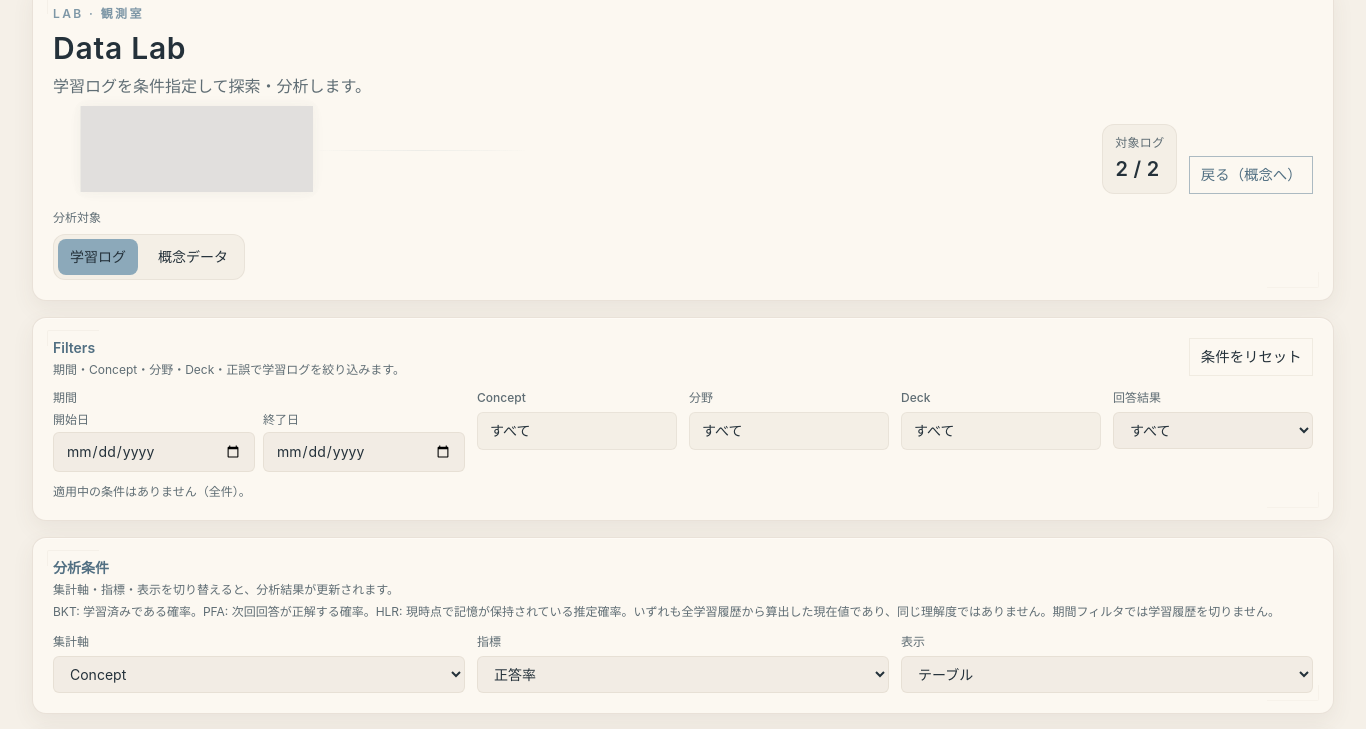
DataLabView (#89 / #90) › 表示selectにヒストグラムがあり、Concept/分野/Deckで描画し、日では案内、テーブルに戻せる
The width and height of the screenshot is (1366, 729).
Step 1. Select "ヒストグラム" in the dropdown labelled "表示" → coordinates (1107, 674), box [901,656,1313,692]
Step 2. Select "分野" in the dropdown labelled "集計軸" → coordinates (259, 674), box [53,656,465,692]
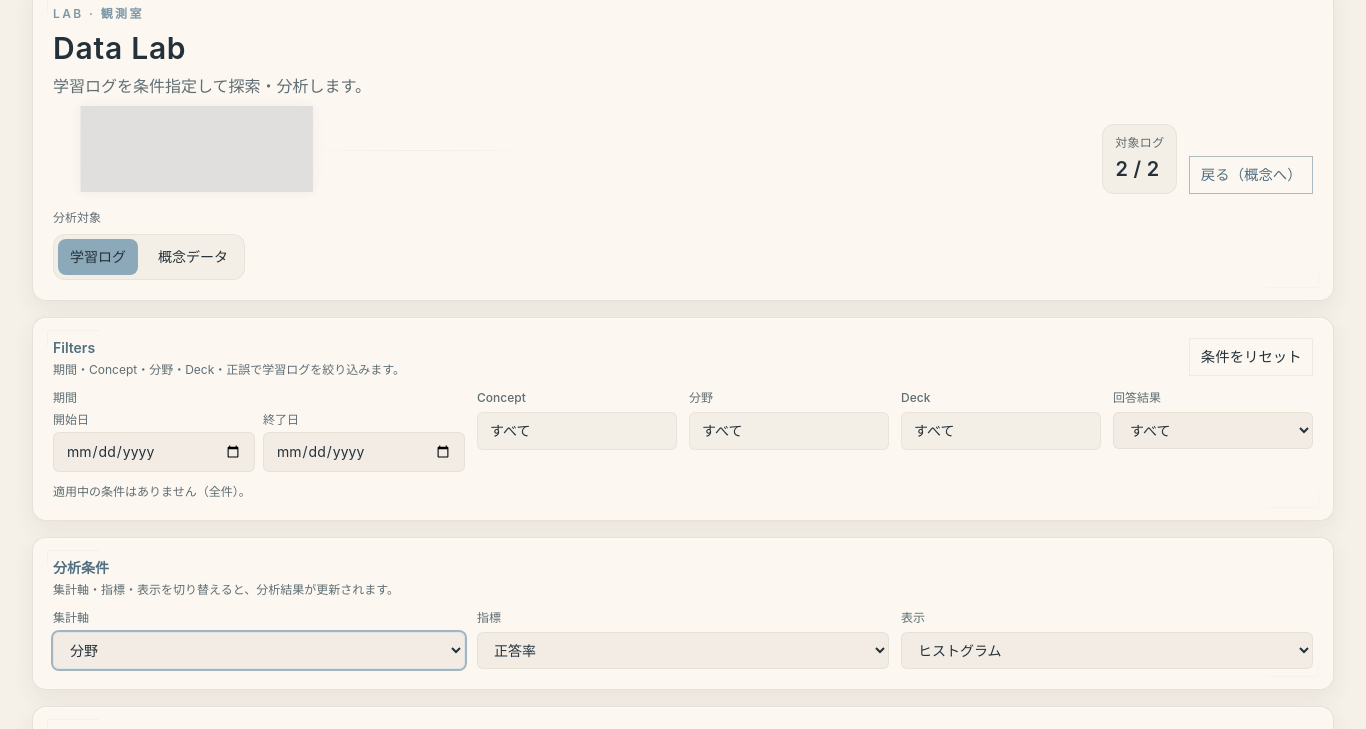
Step 3. Select "Deck" in the dropdown labelled "集計軸" → coordinates (259, 650), box [53,632,465,669]
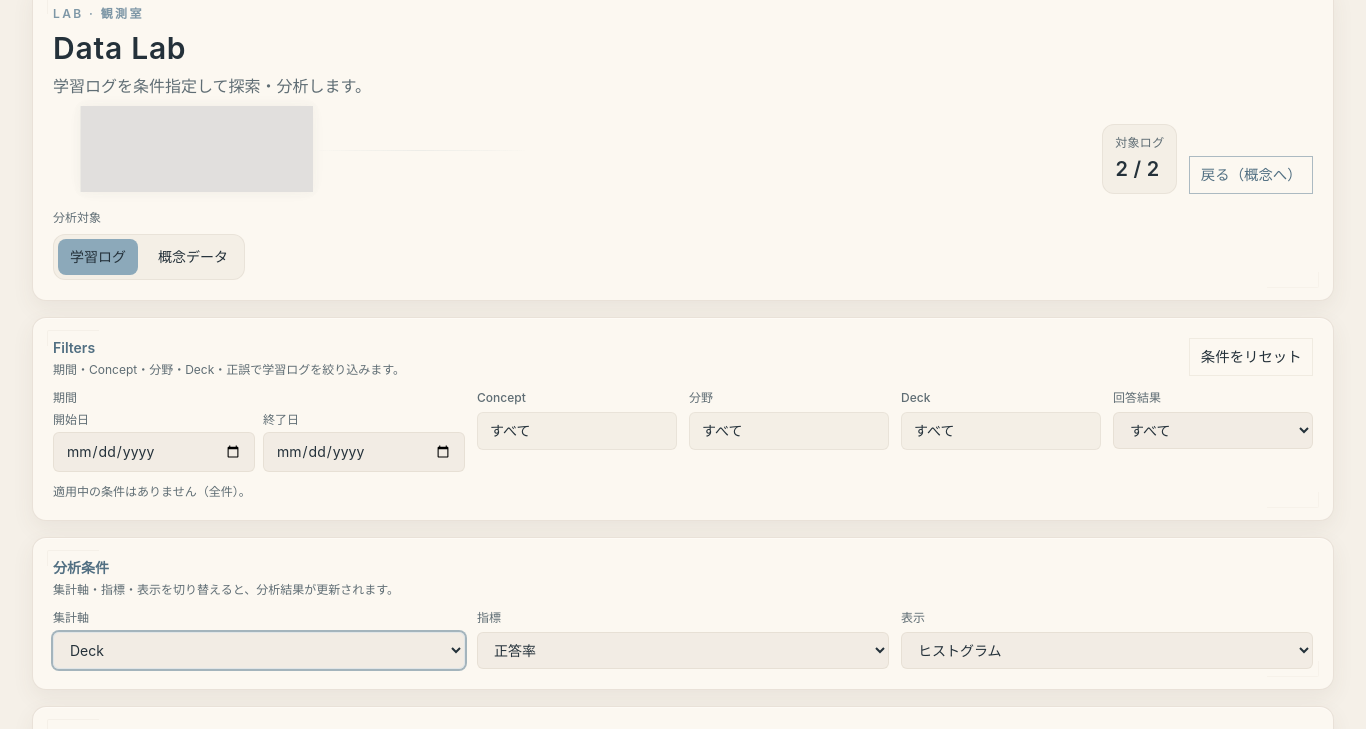
Step 4. Select "日" in the dropdown labelled "集計軸" → coordinates (259, 650), box [53,632,465,669]
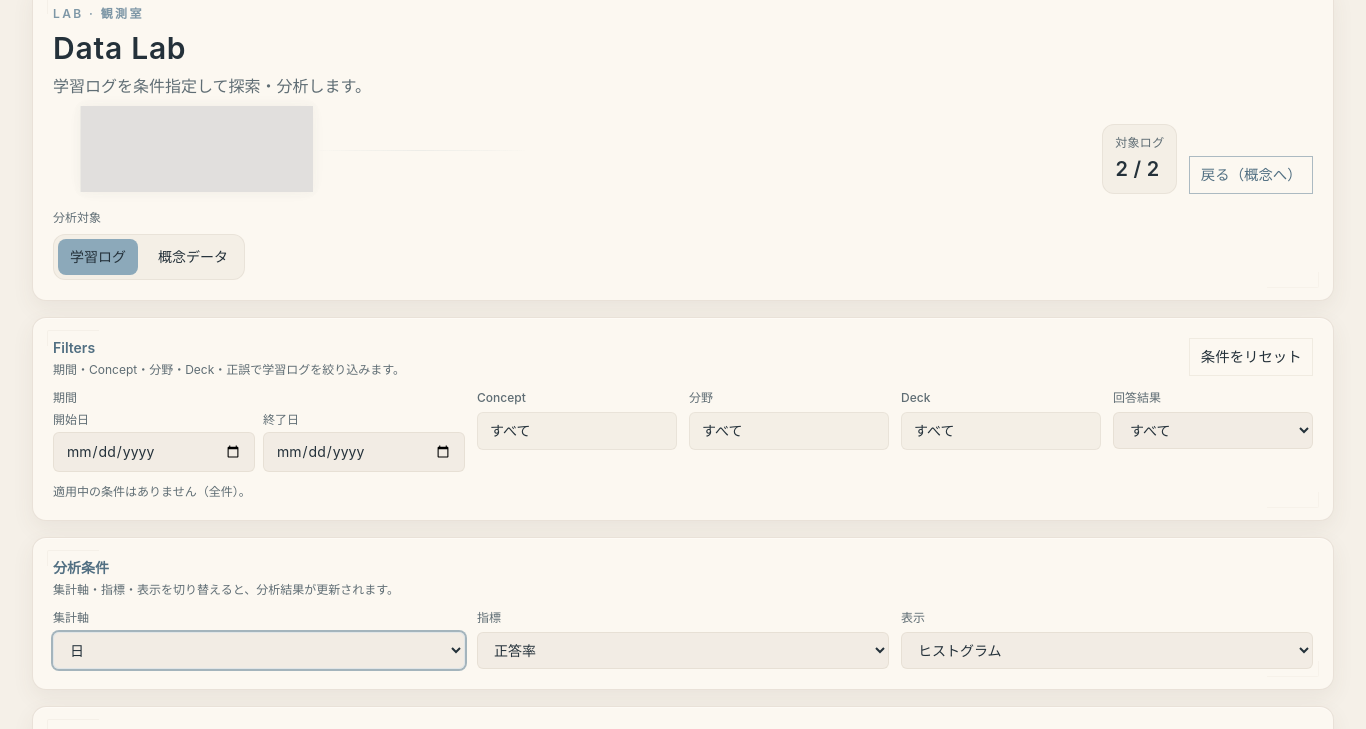
Step 5. Select "Concept" in the dropdown labelled "集計軸" → coordinates (259, 650), box [53,632,465,669]
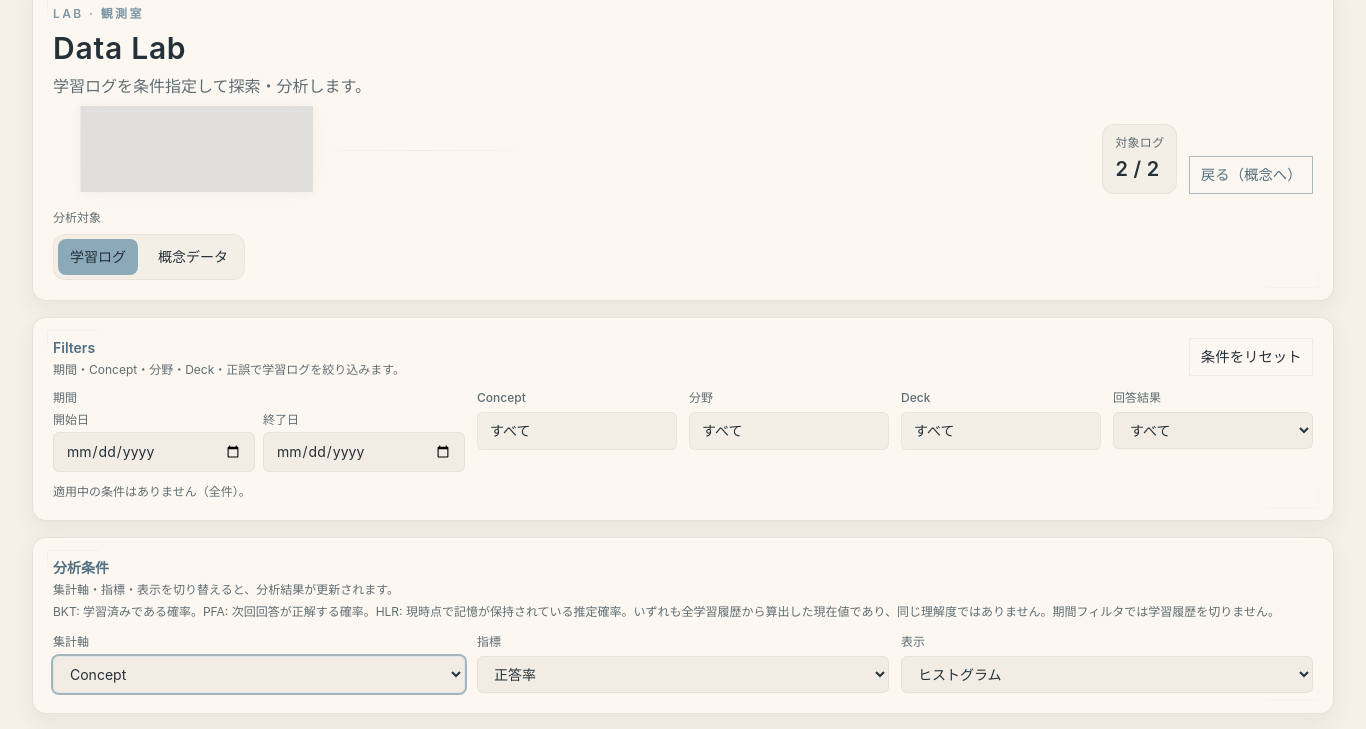
Step 6. Select "回答数" in the dropdown labelled "指標" → coordinates (683, 674), box [477,656,889,692]
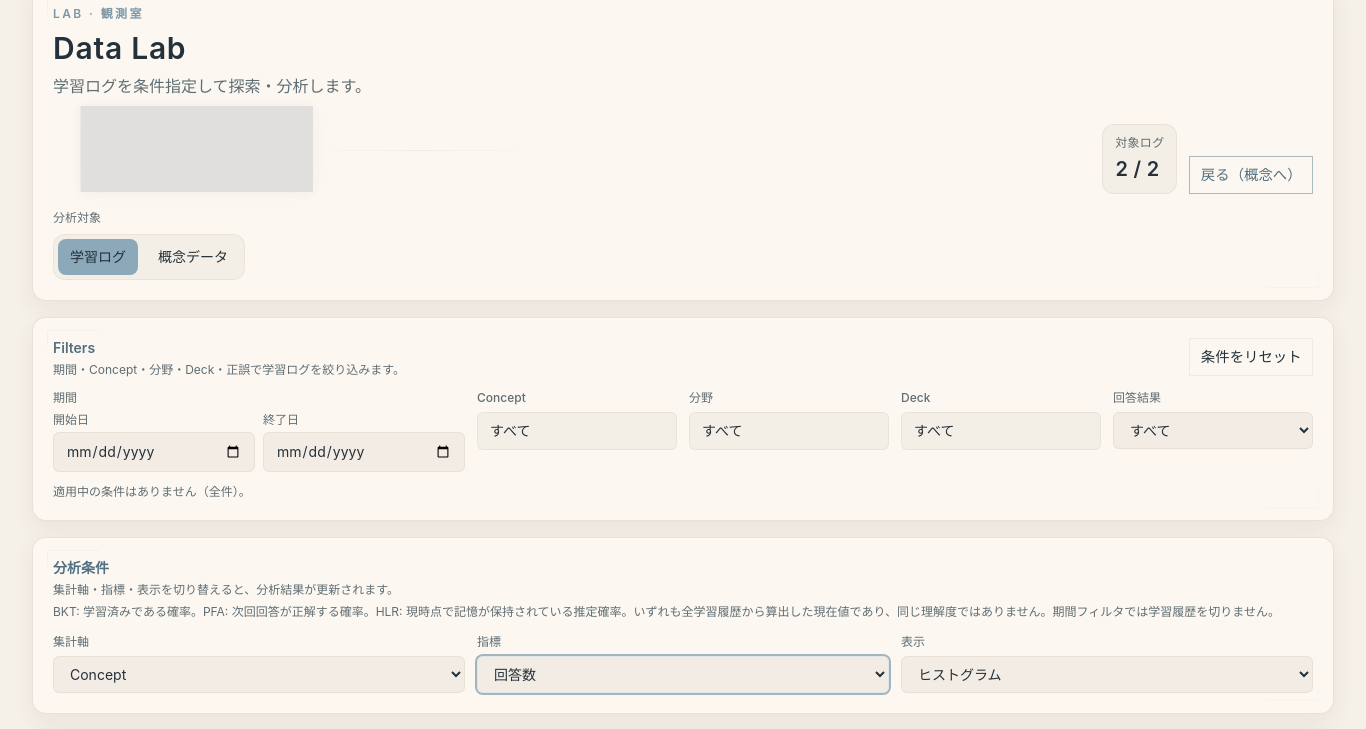
Step 7. Select "テーブル" in the dropdown labelled "表示" → coordinates (1107, 674), box [901,656,1313,692]
(page scrolled)
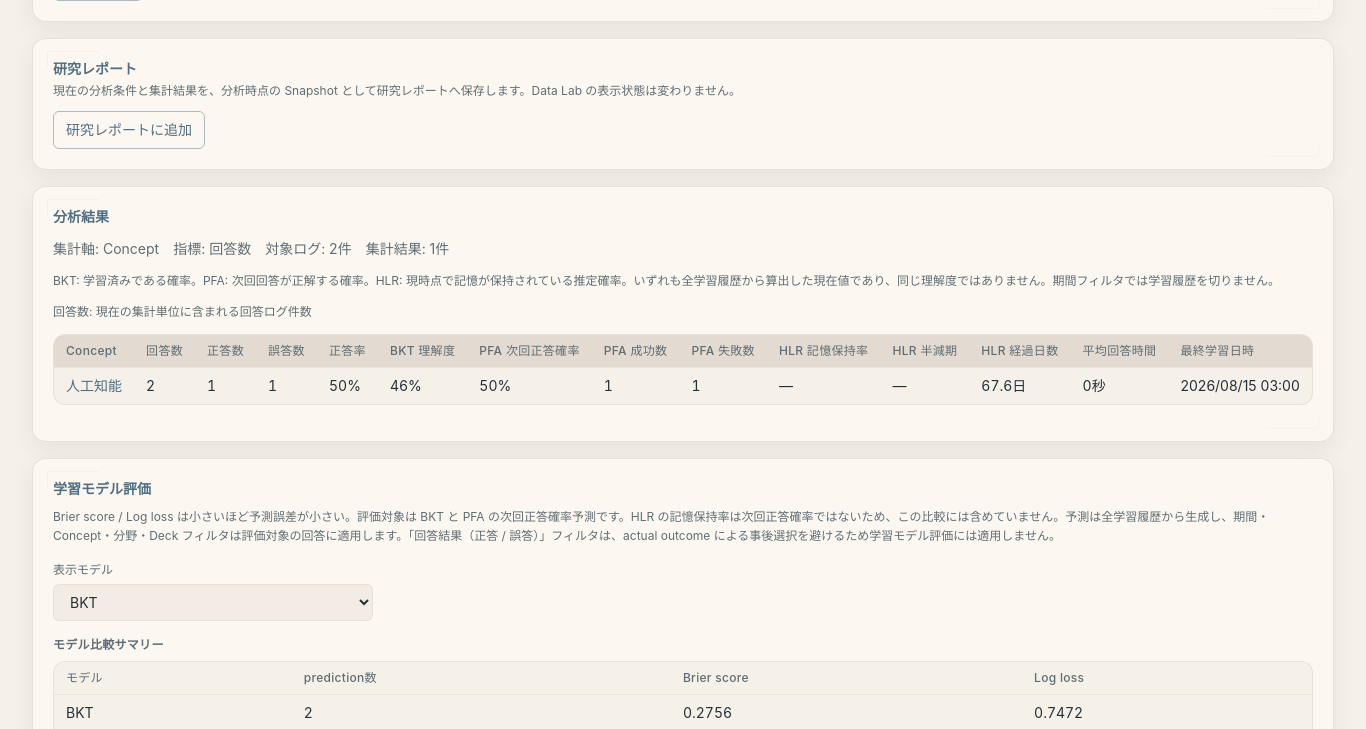
Check: the table with test id "data-lab-table" is shown, box [54,334,1312,404]
